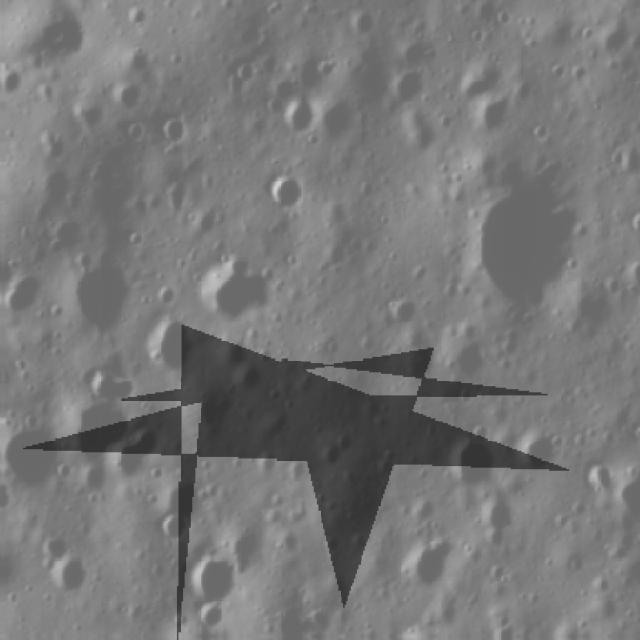crater: (458, 175, 590, 317), (62, 257, 142, 334), (62, 405, 135, 480), (204, 259, 270, 327), (4, 417, 58, 495), (399, 530, 461, 596), (20, 19, 86, 79), (181, 558, 247, 618), (143, 320, 200, 386), (513, 425, 570, 484), (445, 442, 501, 496), (470, 492, 513, 558), (35, 212, 88, 263), (48, 552, 98, 606), (89, 372, 149, 410), (256, 170, 298, 222), (474, 90, 514, 142), (0, 272, 45, 318), (270, 103, 319, 145), (148, 508, 194, 550), (447, 338, 485, 384), (388, 69, 420, 120), (76, 105, 105, 150), (155, 118, 193, 152), (384, 298, 419, 334), (119, 48, 152, 78), (114, 86, 141, 117), (117, 124, 145, 151)
